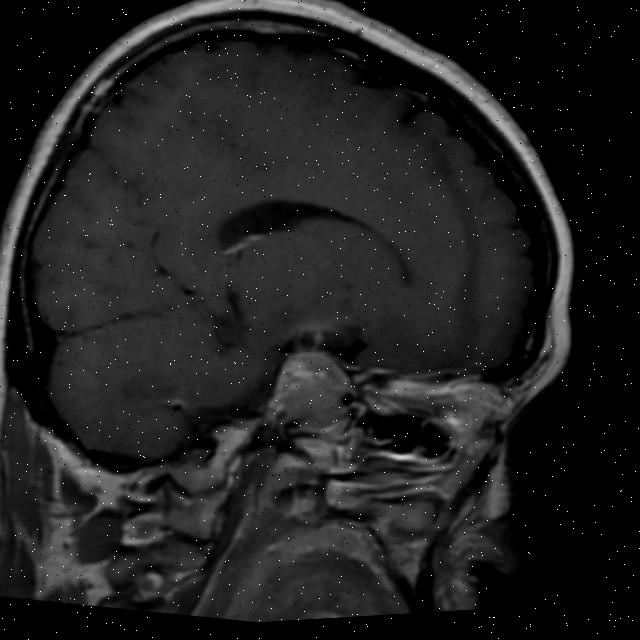Pituitary: (262, 342, 361, 439)
